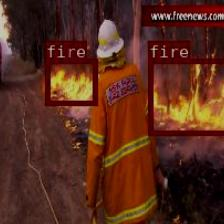fire: (146, 58, 224, 133), (44, 58, 96, 105)
